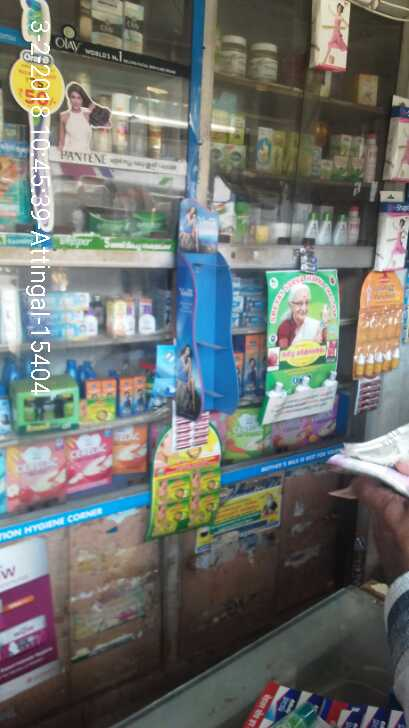olay: (86, 6, 130, 47), (128, 1, 159, 57)
